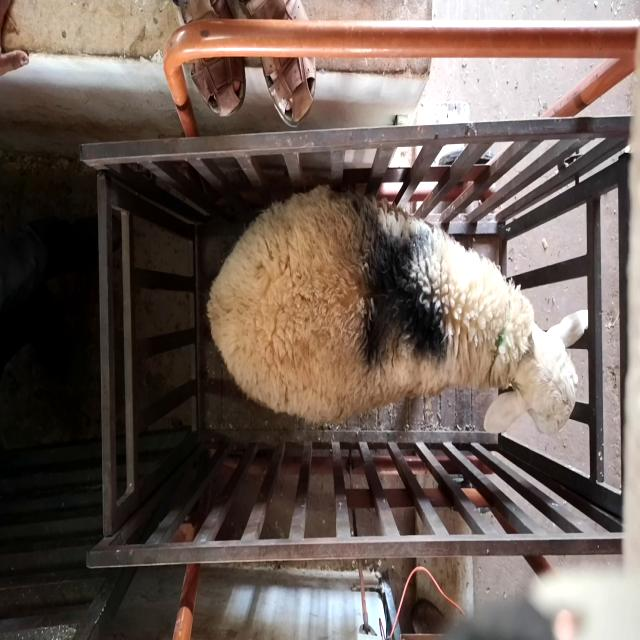sheep: (206, 186, 590, 437)
